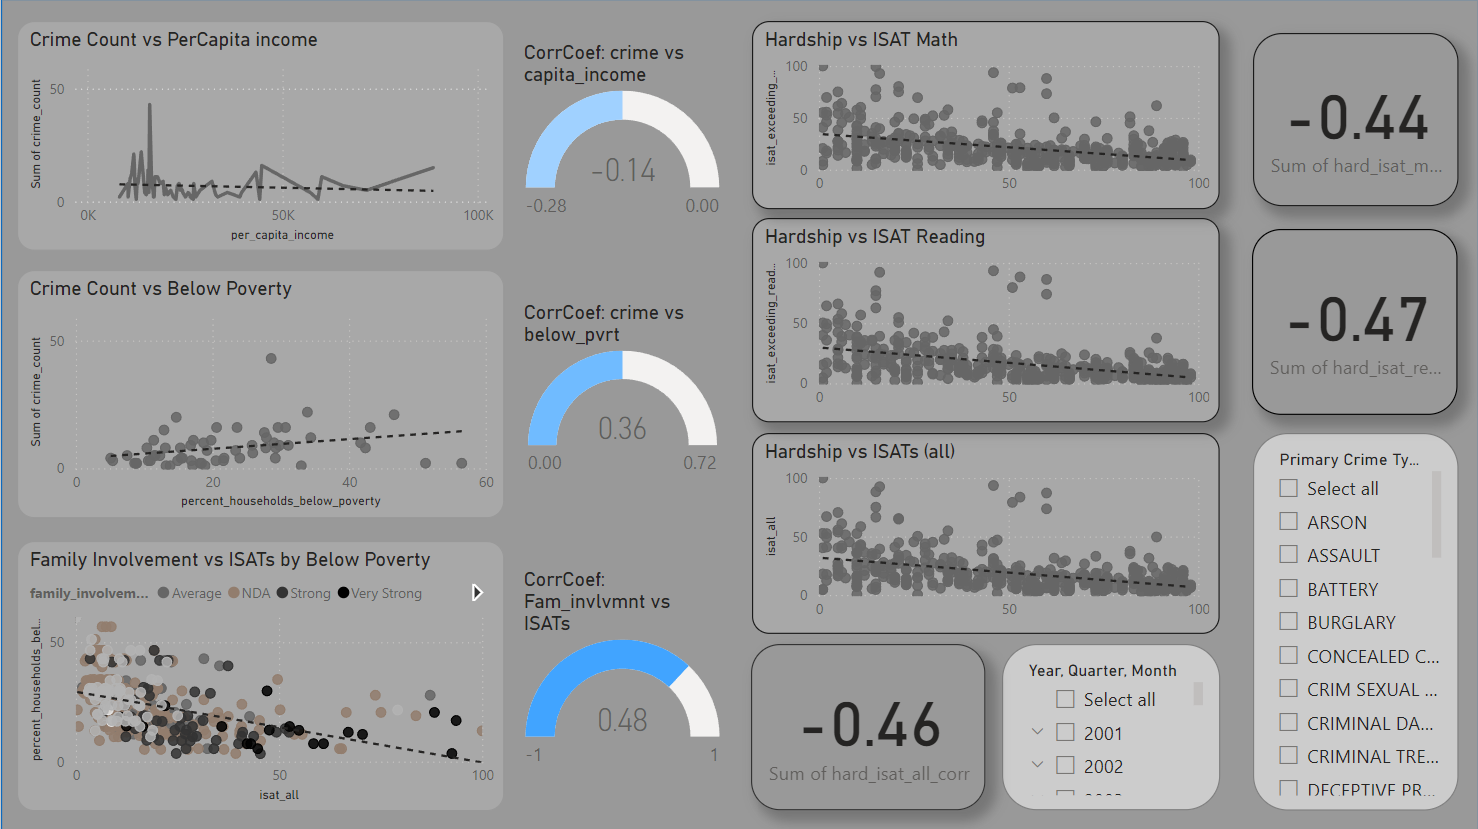

The page's visual inventory and layout, read from the dashboard file:
{"tool":"powerbi","page":{"name":"Main Analysis","canvas":[1280,720],"ordinal":2},"visuals":[{"type":"shape","box":[0,0,1280,720.2],"z":0},{"type":"lineChart","title":"Crime Count vs PerCapita income","fields":{"Category":["public census.per_capita_income"],"Y":["Sum(CrimeCount By Community.crime_count)"]},"box":[13.5,19.3,421.9,199.4],"z":1000},{"type":"gauge","fields":{"Y":["Sum(ddTotalCrimes/community CORR SocioEcnmcs.crime_capita_inc_corr)"]},"box":[447.9,36.6,181.1,162.8],"z":2000},{"type":"scatterChart","title":"Crime Count vs Below Poverty","fields":{"Y":["Sum(CrimeCount By Community.crime_count)"],"X":["public census.percent_households_below_poverty"]},"box":[13.5,235,421.9,214.8],"z":3000},{"type":"gauge","fields":{"Y":["Sum(ddTotalCrimes/community CORR SocioEcnmcs.crime_belowpvrt_corr)"]},"box":[447.9,262,181.1,160.8],"z":4000},{"type":"slicer","title":"Filter By Y/Qtr/M","fields":{"Values":["Calendar.Date.Variation.Date Hierarchy.Year","Calendar.Date.Variation.Date Hierarchy.Quarter","Calendar.Date.Variation.Date Hierarchy.Month"]},"box":[866.8,558.6,188.8,144.5],"z":5000},{"type":"slicer","fields":{"Values":["public crime.primary_type"]},"box":[1083.9,375.9,177.7,326.9],"z":6000},{"type":"card","fields":{"Values":["Sum(Query1.hard_isat_math_corr)"]},"box":[1083.9,29.6,177.7,150.2],"z":7000},{"type":"scatterChart","title":"Family Involvement vs  ISATs by Below Poverty","fields":{"Y":["public census.percent_households_below_poverty"],"Series":["public pubschools.family_involvement_icon"],"X":["Sum(MeanScores for gr3-5/6-8 & ISATs & remove NULLs.isat_all)"]},"box":[13.5,469,421.9,234],"z":8000},{"type":"gauge","title":"CorrCoef: Fam_invlvmnt vs ISATs","fields":{"MaxValue":["Query1.CorrCoefMax"],"MinValue":["Query1.CorrCoefMin"],"Y":["Sum(What affects ISATs results.fam_invlvmnt_isat_corr)"]},"box":[447.9,493.1,181.1,182],"z":9000},{"type":"scatterChart","title":"Hardship vs ISAT Math","fields":{"Y":["ddMeanScores for gr3-5/6-8 & ISATs & remove NULLs.isat_exceeding_math"],"X":["public census.hardship_index"]},"box":[650.1,19.3,405.5,162.8],"z":10000},{"type":"scatterChart","title":"Hardship vs ISAT Reading","fields":{"X":["public census.hardship_index"],"Y":["ddMeanScores for gr3-5/6-8 & ISATs & remove NULLs.isat_exceeding_reading"]},"box":[650.1,189.7,405.5,177.2],"z":11000},{"type":"scatterChart","title":"Hardship vs ISATs (all)","fields":{"X":["public census.hardship_index"],"Y":["ddMeanScores for gr3-5/6-8 & ISATs & remove NULLs.isat_all"]},"box":[650.1,375.6,405.5,174.3],"z":12000},{"type":"card","fields":{"Values":["Sum(Query1.hard_isat_read_corr)"]},"box":[1083.5,199.4,178.2,160.8],"z":13000},{"type":"card","fields":{"Values":["Sum(Query1.hard_isat_all_corr)"]},"box":[649.7,558.8,203.3,144],"z":14000}]}

Visuals, with their boxes in screenshot pixels (x1, y1, x2, y2), scaled from the page's 1280x720 canvas onto the 1478x829 screenshot:
shape: x1=0 y1=0 x2=1477 y2=828
"Crime Count vs PerCapita income" lineChart: x1=16 y1=22 x2=503 y2=252
gauge - Sum(ddTotalCrimes/community CORR SocioEcnmcs.crime_capita_inc_corr): x1=517 y1=42 x2=726 y2=230
"Crime Count vs Below Poverty" scatterChart: x1=16 y1=271 x2=503 y2=518
gauge - Sum(ddTotalCrimes/community CORR SocioEcnmcs.crime_belowpvrt_corr): x1=517 y1=302 x2=726 y2=487
"Filter By Y/Qtr/M" slicer: x1=1001 y1=643 x2=1219 y2=810
slicer - public crime.primary_type: x1=1252 y1=433 x2=1457 y2=809
card - Sum(Query1.hard_isat_math_corr): x1=1252 y1=34 x2=1457 y2=207
"Family Involvement vs  ISATs by Below Poverty" scatterChart: x1=16 y1=540 x2=503 y2=809
"CorrCoef: Fam_invlvmnt vs ISATs" gauge: x1=517 y1=568 x2=726 y2=777
"Hardship vs ISAT Math" scatterChart: x1=751 y1=22 x2=1219 y2=210
"Hardship vs ISAT Reading" scatterChart: x1=751 y1=218 x2=1219 y2=422
"Hardship vs ISATs (all)" scatterChart: x1=751 y1=432 x2=1219 y2=633
card - Sum(Query1.hard_isat_read_corr): x1=1251 y1=230 x2=1457 y2=415
card - Sum(Query1.hard_isat_all_corr): x1=750 y1=643 x2=985 y2=809
